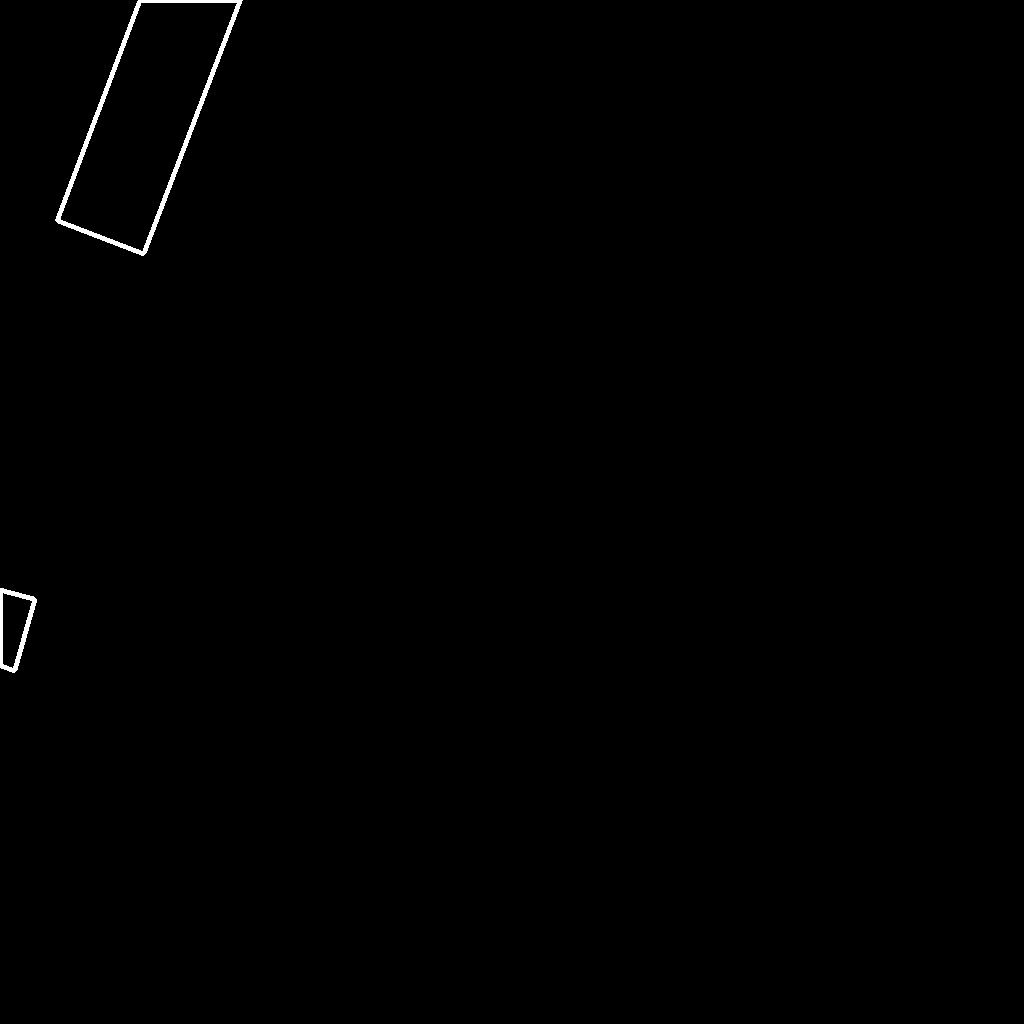building: (57, 0, 242, 255), (0, 590, 36, 672)
